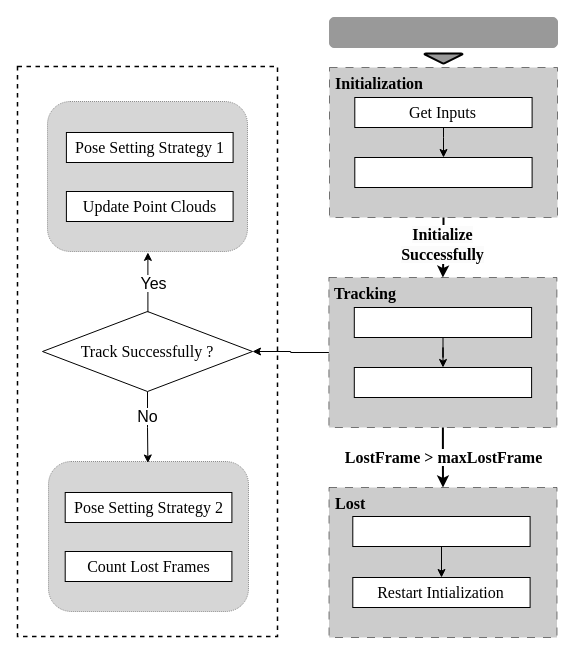
Image size: 576x655. Some labels were removed from this diagram. Each missing label, with the centre of its shape:
Bundle Adjustment: [442,382]
EPnP: [442,322]
Monocular Initialization: [443,172]
Reset Active Map: [441,531]
Start: [443,32]
